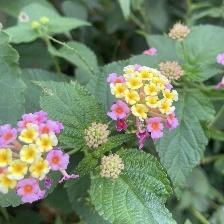common lanthana: (97, 63, 187, 146)
